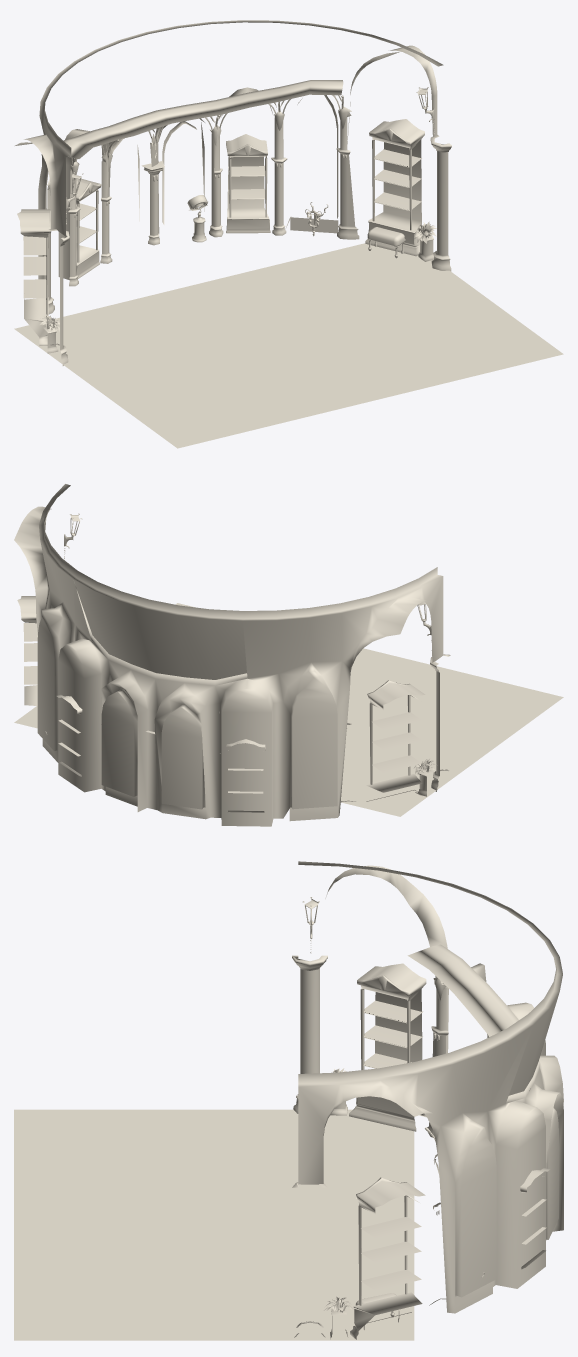
Rendered from garden-folly.glb.
3 views of the same model, one above another, from view 1: azimuth 30°, elevation 25°; view 2: azimuth 150°, elevation 25°; view 3: azimuth 270°, elevation 25° (orthographic). The views are drawn at different scales.
Parts seen in each view (by area): view 1: garden-folly_WhiteStone; view 2: garden-folly_WhiteStone; view 3: garden-folly_WhiteStone.
Boxes of the visible parts, x1,y1,x2,y2 form: garden-folly_WhiteStone: [14, 20, 563, 448]; garden-folly_WhiteStone: [14, 484, 563, 826]; garden-folly_WhiteStone: [14, 861, 563, 1340].
Bounding box in the file's own units: 9 × 4.56 × 8.66.
